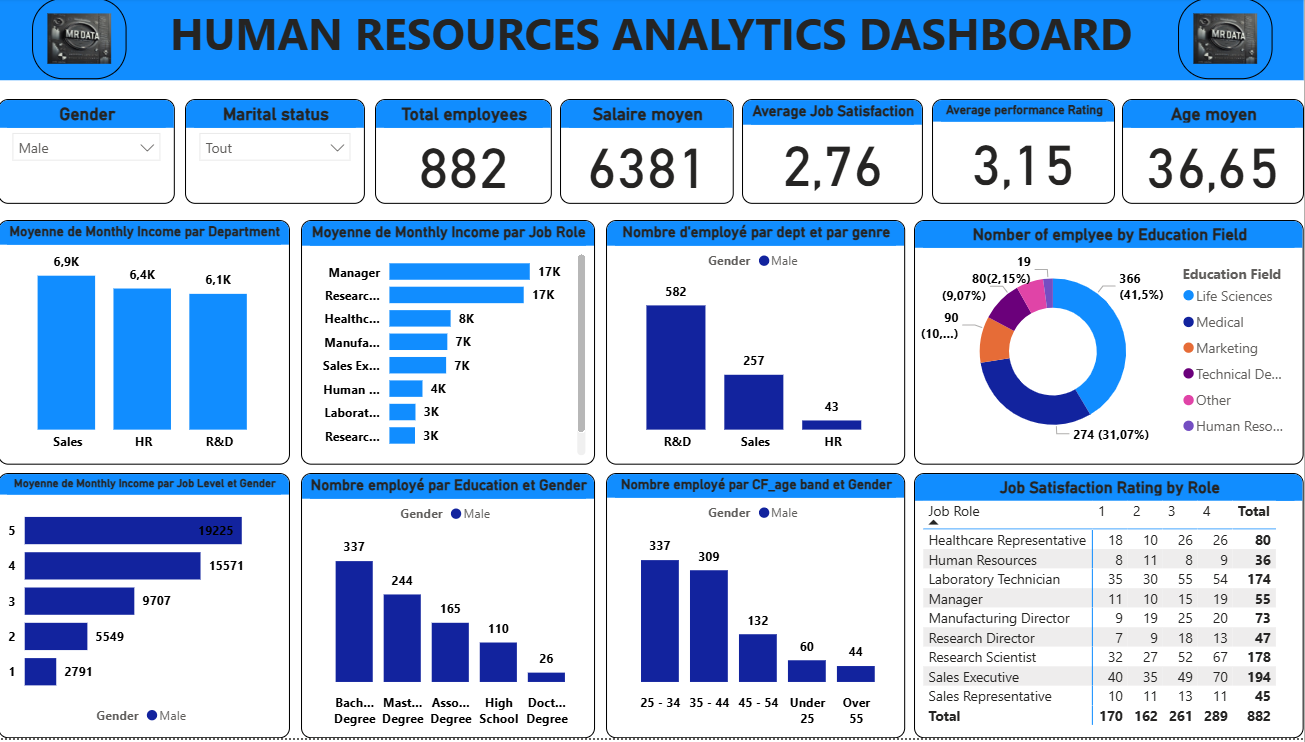

The page's visual inventory and layout, read from the dashboard file:
{"tool":"powerbi","page":{"name":"Gestion des resources humaines","canvas":[1280,720],"ordinal":0},"visuals":[{"type":"textbox","box":[9.7,0,1270.3,79.8],"z":0},{"type":"slicer","title":"Gender","fields":{"Values":["HR data.Gender"]},"box":[10.2,98.6,171.8,101.7],"z":1000},{"type":"slicer","title":"Marital status","fields":{"Values":["HR data.Marital Status"]},"box":[191.1,98.6,174.9,101.7],"z":3000},{"type":"card","title":"Total employees","fields":{"Values":["HR data.Nombre employé"]},"box":[376.2,98.6,171.8,101.7],"z":4000},{"type":"card","title":"Salaire moyen","fields":{"Values":["Avg(HR data.Monthly Income)"]},"box":[556.1,98.6,168.8,101.7],"z":5000},{"type":"card","title":"Average Job Satisfaction","fields":{"Values":["Avg(HR data.Job Satisfaction)"]},"box":[733,98.6,175.9,101.7],"z":6000},{"type":"card","title":"Average performance Rating","fields":{"Values":["Avg(HR data.Performance Rating)"]},"box":[918.1,98.6,177.9,101.7],"z":7000},{"type":"card","title":"Age moyen","fields":{"Values":["Avg(HR data.Age)"]},"box":[1103.1,98.6,176.9,101.7],"z":8000},{"type":"columnChart","fields":{"Category":["HR data.Department"],"Y":["Avg(HR data.Monthly Income)"]},"box":[10.2,215.5,283.7,237.9],"z":9000},{"type":"barChart","fields":{"Y":["Avg(HR data.Monthly Income)"],"Category":["HR data.Job Role"]},"box":[304,215.5,285.7,237.9],"z":9001},{"type":"clusteredColumnChart","title":"Nombre d''employé par dept et par  genre","fields":{"Category":["HR data.Department"],"Y":["CountNonNull(HR data.emp no)"],"Series":["HR data.Gender"]},"box":[600.9,215.5,290.8,237.9],"z":9002},{"type":"donutChart","title":"Nomber of emplyee by Education Field","fields":{"Y":["CountNonNull(HR data.emp no)"],"Category":["HR data.Education Field"]},"box":[900.8,215.5,379.2,237.9],"z":9003},{"type":"clusteredBarChart","fields":{"Y":["Avg(HR data.Monthly Income)"],"Category":["HR data.Job Level"],"Series":["HR data.Gender"]},"box":[10.2,461.6,283.7,258.2],"z":9004},{"type":"columnChart","fields":{"Category":["HR data.Education"],"Y":["HR data.Nombre employé"],"Series":["HR data.Gender"]},"box":[304,461.6,285.7,258.2],"z":9005},{"type":"columnChart","fields":{"Y":["HR data.Nombre employé"],"Series":["HR data.Gender"],"Category":["HR data.CF_age band"]},"box":[600.9,461.6,290.8,258.2],"z":9006},{"type":"pivotTable","title":"Job Satisfaction Rating by Role","fields":{"Rows":["HR data.Job Role"],"Columns":["HR data.Job Satisfaction"],"Values":["HR data.Nombre employé"]},"box":[900.8,461.6,379.2,258.2],"z":9007},{"type":"image","box":[42.7,0,91.5,79.3],"z":9008},{"type":"image","box":[1157,0,91.5,79.3],"z":9009}]}

Visuals, with their boxes in screenshot pixels (x1, y1, x2, y2), scaled from the page's 1280x720 canvas onto the 1305x742 screenshot:
textbox: locate(10, 0, 1304, 82)
"Gender" slicer: locate(10, 102, 186, 206)
"Marital status" slicer: locate(195, 102, 373, 206)
"Total employees" card: locate(384, 102, 559, 206)
"Salaire moyen" card: locate(567, 102, 739, 206)
"Average Job Satisfaction" card: locate(747, 102, 927, 206)
"Average performance Rating" card: locate(936, 102, 1117, 206)
"Age moyen" card: locate(1125, 102, 1304, 206)
columnChart - HR data.Department x Avg(HR data.Monthly Income): locate(10, 222, 300, 467)
barChart - Avg(HR data.Monthly Income) x HR data.Job Role: locate(310, 222, 601, 467)
"Nombre d''employé par dept et par  genre" clusteredColumnChart: locate(613, 222, 909, 467)
"Nomber of emplyee by Education Field" donutChart: locate(918, 222, 1304, 467)
clusteredBarChart - Avg(HR data.Monthly Income) x HR data.Job Level: locate(10, 476, 300, 741)
columnChart - HR data.Education x HR data.Nombre employé: locate(310, 476, 601, 741)
columnChart - HR data.Nombre employé x HR data.Gender: locate(613, 476, 909, 741)
"Job Satisfaction Rating by Role" pivotTable: locate(918, 476, 1304, 741)
image: locate(44, 0, 137, 82)
image: locate(1180, 0, 1273, 82)
